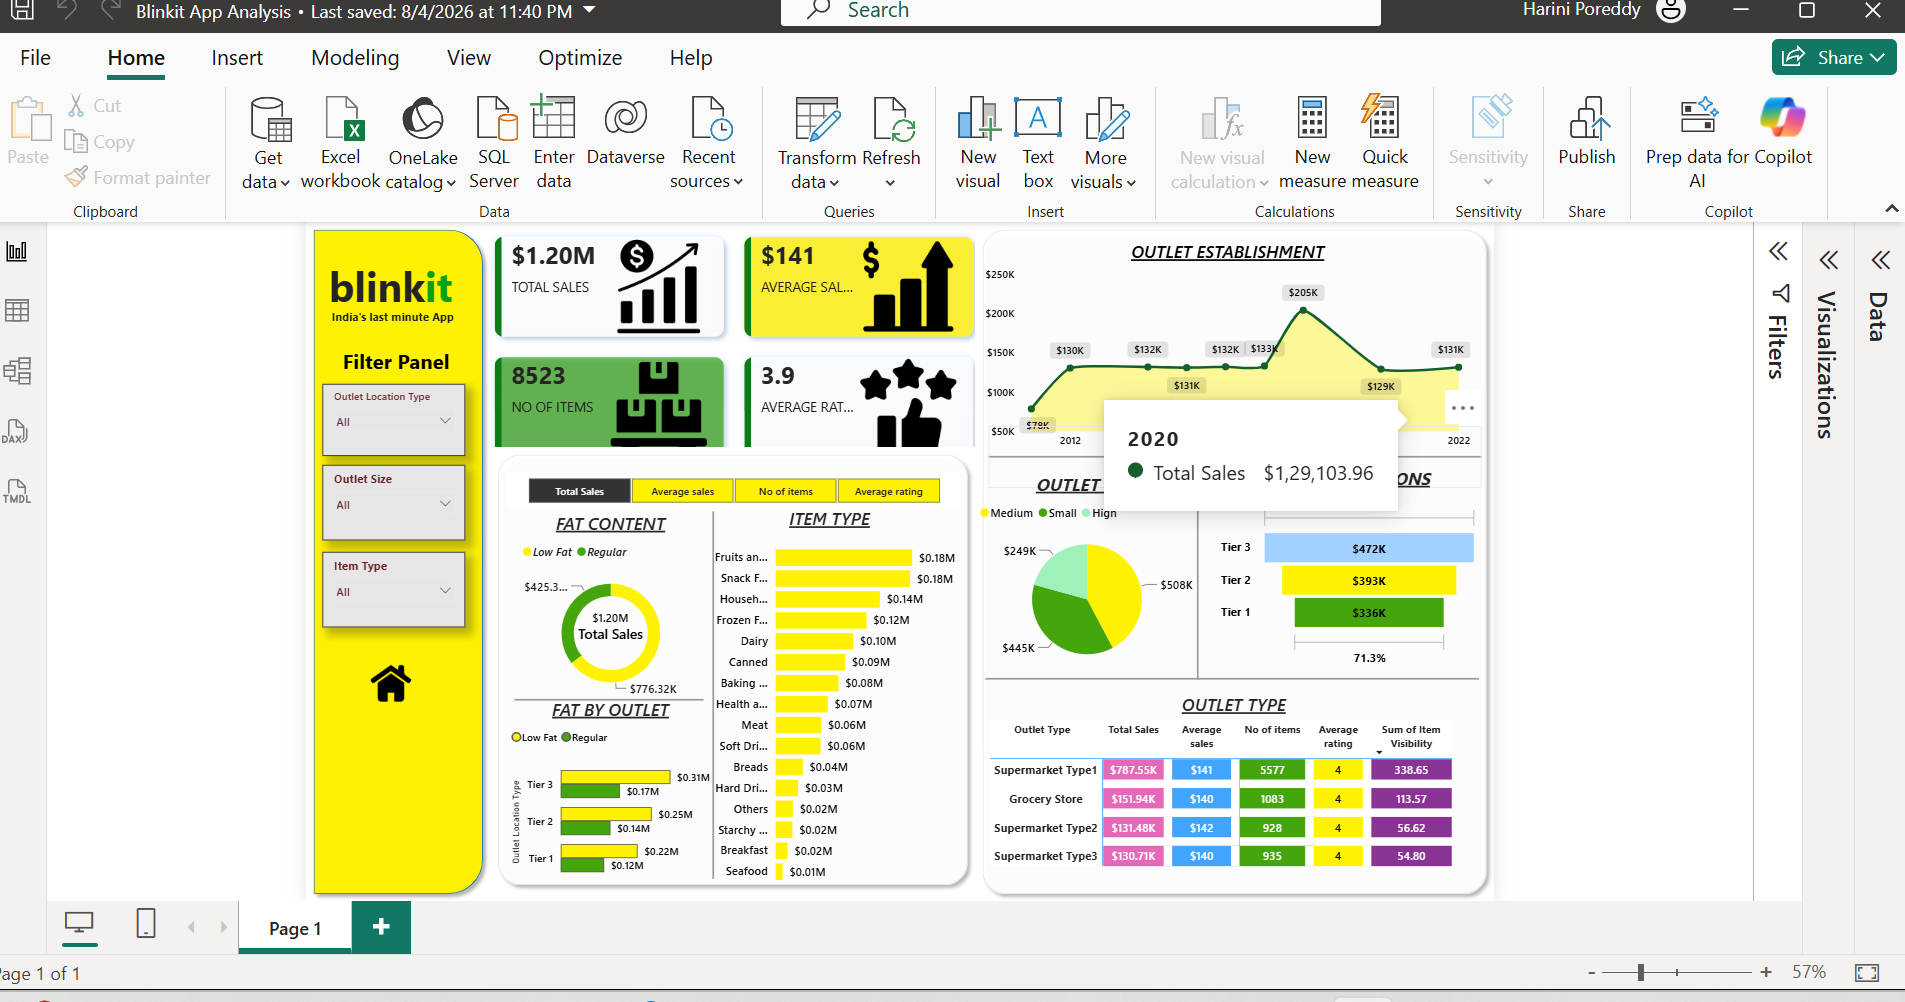

The page's visual inventory and layout, read from the dashboard file:
{"tool":"powerbi","page":{"name":"Page 1","canvas":[1400,800],"ordinal":0},"visuals":[{"type":"shape","box":[0,0,217.4,800.6],"z":0},{"type":"textbox","box":[12.4,37.1,175,91.9],"z":1000},{"type":"textbox","box":[0,97.2,205,31.8],"z":2000},{"type":"cardVisual","fields":{"Data":["BlinkIT Grocery Data.Total Sales","BlinkIT Grocery Data.Average sales","BlinkIT Grocery Data.No of items","BlinkIT Grocery Data.Average rating"]},"box":[205,0,599.1,295.1],"z":3000},{"type":"shape","box":[217.4,265.1,571,525],"z":4000},{"type":"donutChart","title":"FAT CONTENT","fields":{"Category":["BlinkIT Grocery Data.Item Fat Content"],"Y":["BlinkIT Grocery Data.Total Sales"]},"box":[249.2,341.1,219.2,229.8],"z":5000},{"type":"slicer","fields":{"Values":["Metrics .Metrics "]},"box":[236.8,295.1,533.7,42.4],"z":6000},{"type":"cardVisual","fields":{"Data":["BlinkIT Grocery Data.Total Sales"]},"box":[302.2,441.8,113.1,68.9],"z":7000},{"type":"clusteredBarChart","title":"FAT BY OUTLET ","fields":{"Category":["BlinkIT Grocery Data.Outlet Location Type"],"Series":["BlinkIT Grocery Data.Item Fat Content"],"Y":["BlinkIT Grocery Data.Total Sales"]},"box":[236.8,560.2,243.9,229.8],"z":8000},{"type":"shape","box":[245.7,526.7,222.7,72.5],"z":9000},{"type":"shape","box":[440.1,341.1,79.5,433],"z":10000},{"type":"barChart","title":"ITEM TYPE ","fields":{"Category":["BlinkIT Grocery Data.Item Type"],"Y":["BlinkIT Grocery Data.Total Sales"]},"box":[463,335.8,307.5,454.2],"z":11000},{"type":"shape","box":[788.2,0,611.5,800.6],"z":12000},{"type":"lineChart","title":"OUTLET ESTABLISHMENT","fields":{"Category":["BlinkIT Grocery Data.Outlet Establishment Year"],"Y":["BlinkIT Grocery Data.Total Sales"]},"box":[795.3,21.2,581.5,254.5],"z":13000},{"type":"shape","box":[804.1,240.4,581.5,72.5],"z":14000},{"type":"pieChart","title":"OUTLET SIZE","fields":{"Category":["BlinkIT Grocery Data.Outlet Size"],"Y":["BlinkIT Grocery Data.Total Sales"]},"box":[788.2,295.1,263.3,242.1],"z":15000},{"type":"shape","box":[800.6,501.9,581.5,72.5],"z":16000},{"type":"shape","box":[1007.4,275.7,86.6,263.3],"z":17000},{"type":"funnel","title":"OUTLET LOCATIONS","fields":{"Category":["BlinkIT Grocery Data.Outlet Location Type"],"Y":["BlinkIT Grocery Data.Total Sales"]},"box":[1072.8,288.1,312.8,240.4],"z":18000},{"type":"pivotTable","title":"OUTLET TYPE","fields":{"Rows":["BlinkIT Grocery Data.Outlet Type"],"Values":["BlinkIT Grocery Data.Total Sales","BlinkIT Grocery Data.Average sales","BlinkIT Grocery Data.No of items","BlinkIT Grocery Data.Average rating","Sum(BlinkIT Grocery Data.Item Visibility)"]},"box":[800.6,554.9,585,235.1],"z":19000},{"type":"slicer","fields":{"Values":["BlinkIT Grocery Data.Outlet Location Type"]},"box":[19.4,190.9,167.9,84.8],"z":20000},{"type":"slicer","fields":{"Values":["BlinkIT Grocery Data.Outlet Size"]},"box":[19.4,286.3,167.9,88.4],"z":21000},{"type":"pageNavigator","box":[0,0,200,50],"z":22000},{"type":"slicer","fields":{"Values":["BlinkIT Grocery Data.Item Type"]},"box":[19.4,388.8,167.9,88.4],"z":23000},{"type":"textbox","box":[19.4,141.4,180.3,46],"z":24000},{"type":"image","box":[47.7,501.9,104.3,83.1],"z":25000}]}

Visuals, with their boxes on the page's 1400x800 design canvas (x1, y1, x2, y2). These are canvas units, not pixel positions in the 1905x1002 screenshot, which may show the page scaled, cropped or inside an application window:
shape: [0, 0, 217, 801]
textbox: [12, 37, 187, 129]
textbox: [0, 97, 205, 129]
cardVisual - BlinkIT Grocery Data.Total Sales x BlinkIT Grocery Data.Average sales: [205, 0, 804, 295]
shape: [217, 265, 788, 790]
"FAT CONTENT" donutChart: [249, 341, 468, 571]
slicer - Metrics .Metrics : [237, 295, 770, 338]
cardVisual - BlinkIT Grocery Data.Total Sales: [302, 442, 415, 511]
"FAT BY OUTLET " clusteredBarChart: [237, 560, 481, 790]
shape: [246, 527, 468, 599]
shape: [440, 341, 520, 774]
"ITEM TYPE " barChart: [463, 336, 770, 790]
shape: [788, 0, 1400, 801]
"OUTLET ESTABLISHMENT" lineChart: [795, 21, 1377, 276]
shape: [804, 240, 1386, 313]
"OUTLET SIZE" pieChart: [788, 295, 1052, 537]
shape: [801, 502, 1382, 574]
shape: [1007, 276, 1094, 539]
"OUTLET LOCATIONS" funnel: [1073, 288, 1386, 528]
"OUTLET TYPE" pivotTable: [801, 555, 1386, 790]
slicer - BlinkIT Grocery Data.Outlet Location Type: [19, 191, 187, 276]
slicer - BlinkIT Grocery Data.Outlet Size: [19, 286, 187, 375]
pageNavigator: [0, 0, 200, 50]
slicer - BlinkIT Grocery Data.Item Type: [19, 389, 187, 477]
textbox: [19, 141, 200, 187]
image: [48, 502, 152, 585]
